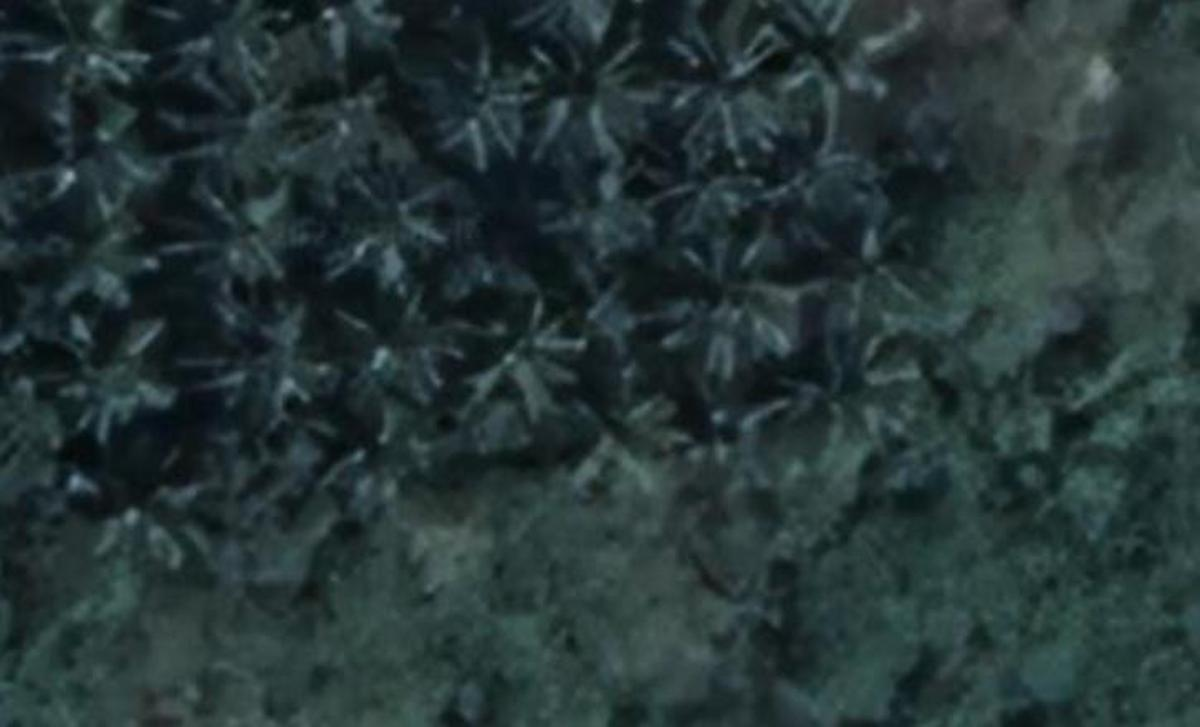coconut: (792, 311, 928, 453), (188, 312, 327, 442), (514, 23, 648, 150), (667, 238, 791, 362), (759, 107, 882, 230), (79, 453, 201, 577), (657, 21, 784, 140), (167, 99, 301, 211), (28, 13, 148, 135), (334, 289, 446, 415), (52, 321, 170, 440), (772, 0, 878, 129), (554, 384, 672, 496), (420, 33, 531, 152), (817, 192, 926, 312), (657, 364, 768, 481), (471, 289, 577, 407), (180, 182, 294, 289), (542, 154, 663, 253), (167, 3, 278, 109), (309, 44, 417, 152), (345, 162, 446, 276), (52, 193, 144, 308), (672, 152, 769, 250), (551, 273, 648, 369)
